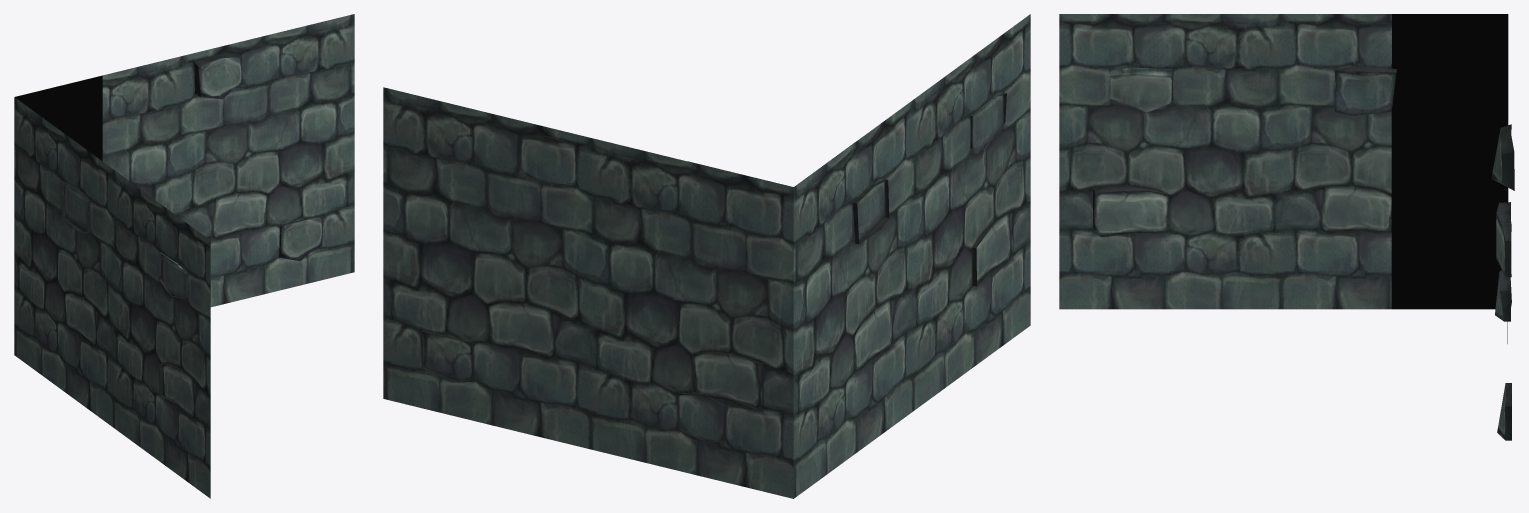
Rendered from crypt_half_concave_02.fbx.
3 views of the same model, side by side, from view 1: azimuth 30°, elevation 25°; view 2: azimuth 150°, elevation 25°; view 3: azimuth 270°, elevation 25° (orthographic). The views are drawn at different scales.
Visible parts, largest first — view 1: crypt_half_concave_02-0; view 2: crypt_half_concave_02-0; view 3: crypt_half_concave_02-0.
Part boxes in pixels (x1,y1,x2,y2): crypt_half_concave_02-0: (14,14,354,498); crypt_half_concave_02-0: (383,14,1030,498); crypt_half_concave_02-0: (1059,14,1514,440).
Bounding box in the file's own units: 3.83 × 2.75 × 3.84.
